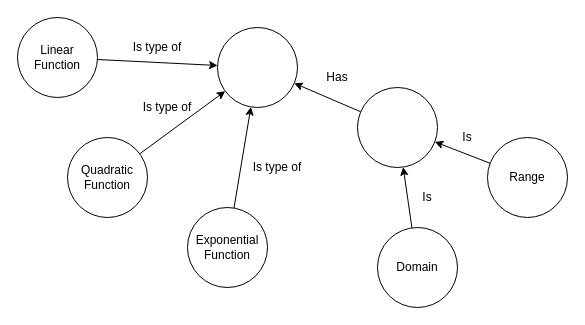
The diagram is 585 pixels wide and 325 high, and some of its shapes have lost their labels. The box of each missing label's shape, as (x1, y1, x2, y2) in pixels:
Function: (216, 26, 298, 108)
Properties of a Function: (356, 86, 438, 168)
